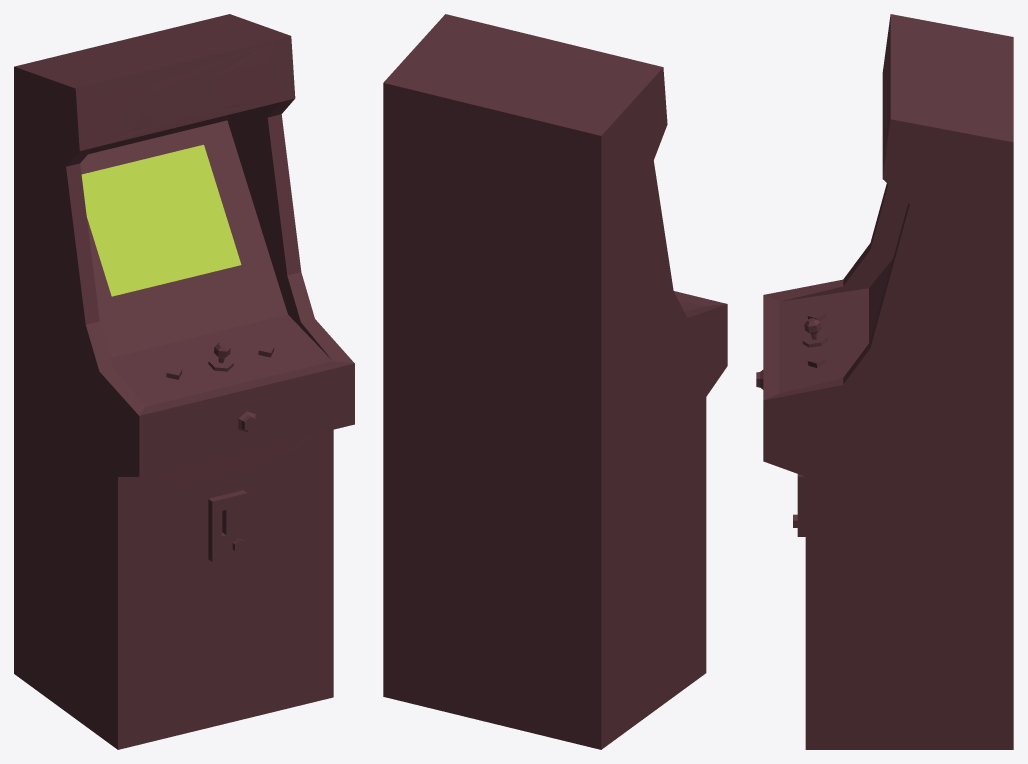
File: arcade-machine-frog.fbx
3 renders of one model, left to right at view 1: azimuth 30°, elevation 25°; view 2: azimuth 150°, elevation 25°; view 3: azimuth 270°, elevation 25°, orthographic.
Parts seen in each view (by area): view 1: arcade-machine-frog; view 2: arcade-machine-frog; view 3: arcade-machine-frog.
Part boxes in pixels (box(x1,y1,x2,y2)): arcade-machine-frog: box(14, 14, 354, 749); arcade-machine-frog: box(383, 14, 727, 749); arcade-machine-frog: box(756, 14, 1013, 749).
Size of the model in its own units: 0.638 by 1.78 by 0.6592.
